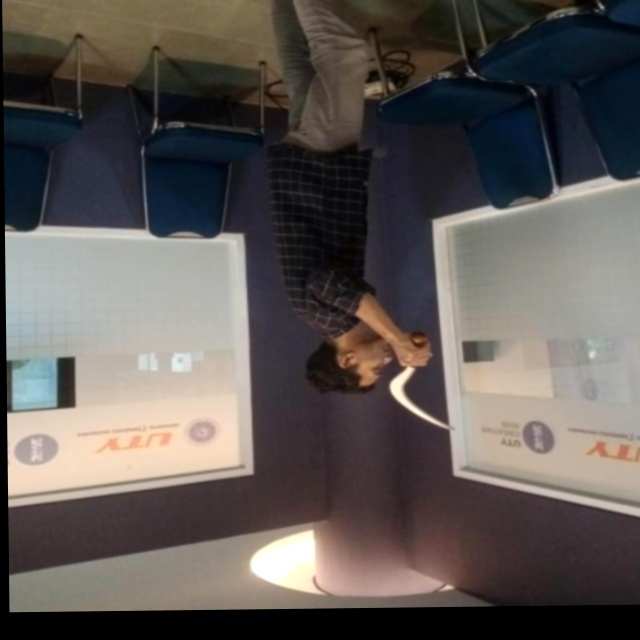Sharp-Object: (378, 325, 461, 433)
